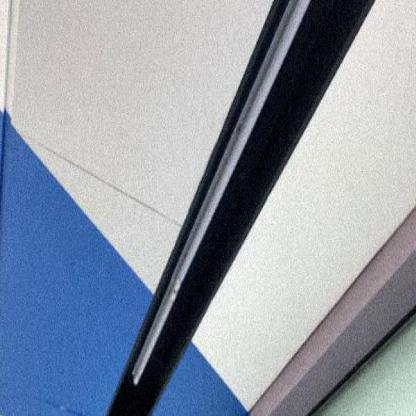light_off: (124, 0, 340, 392)
